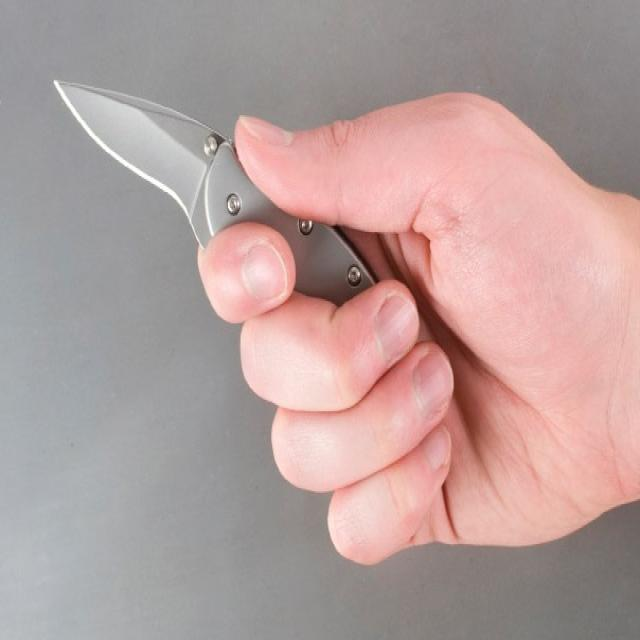knife: (56, 75, 381, 307)
